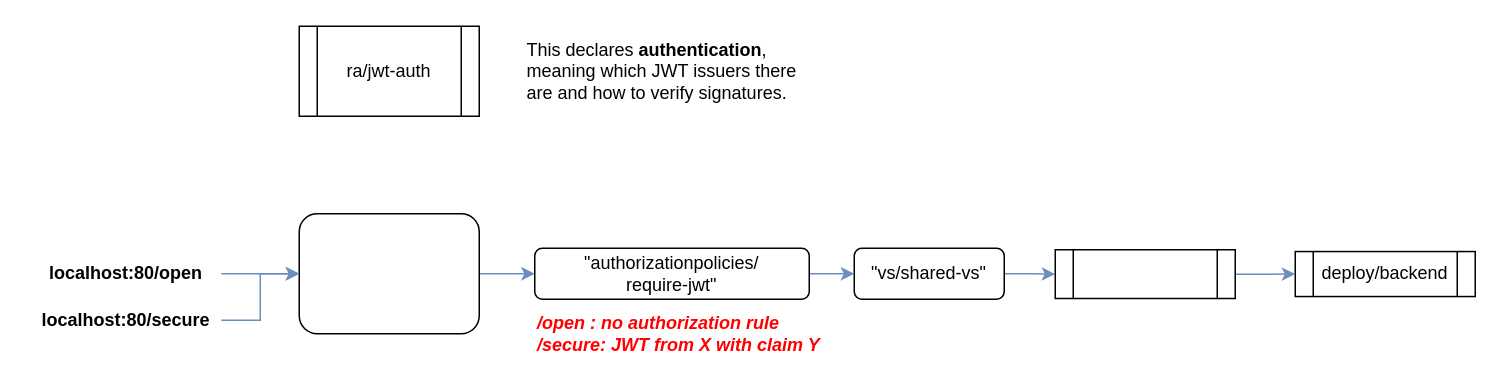
Image size: 1502x383. Some labels were removed from this diagram. The shapes that lost their labels are listed below. From the top down, each one's centre as x and y in pixels, then its label:
(x=388, y=273): "gw/shared-gateway"
(x=1144, y=273): svc/backend-svc
